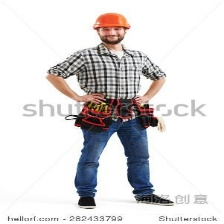helmet: (89, 13, 138, 36)
no-vest: (68, 48, 165, 113)
person: (57, 13, 181, 207)
